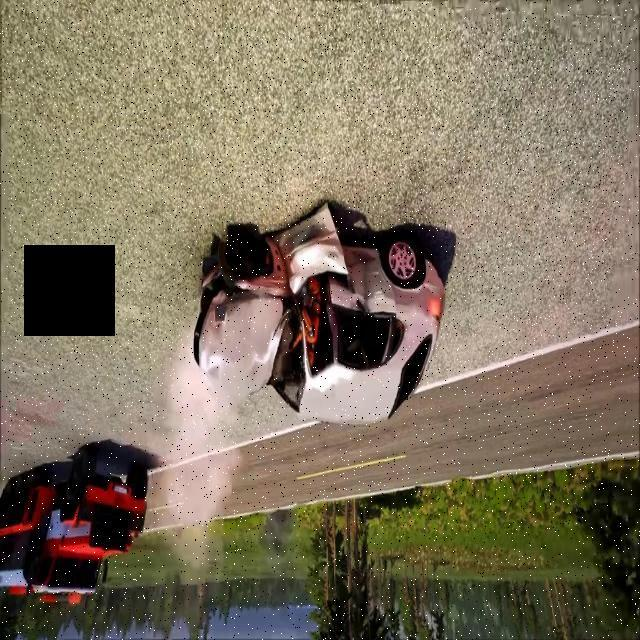severe: (184, 205, 452, 431)
